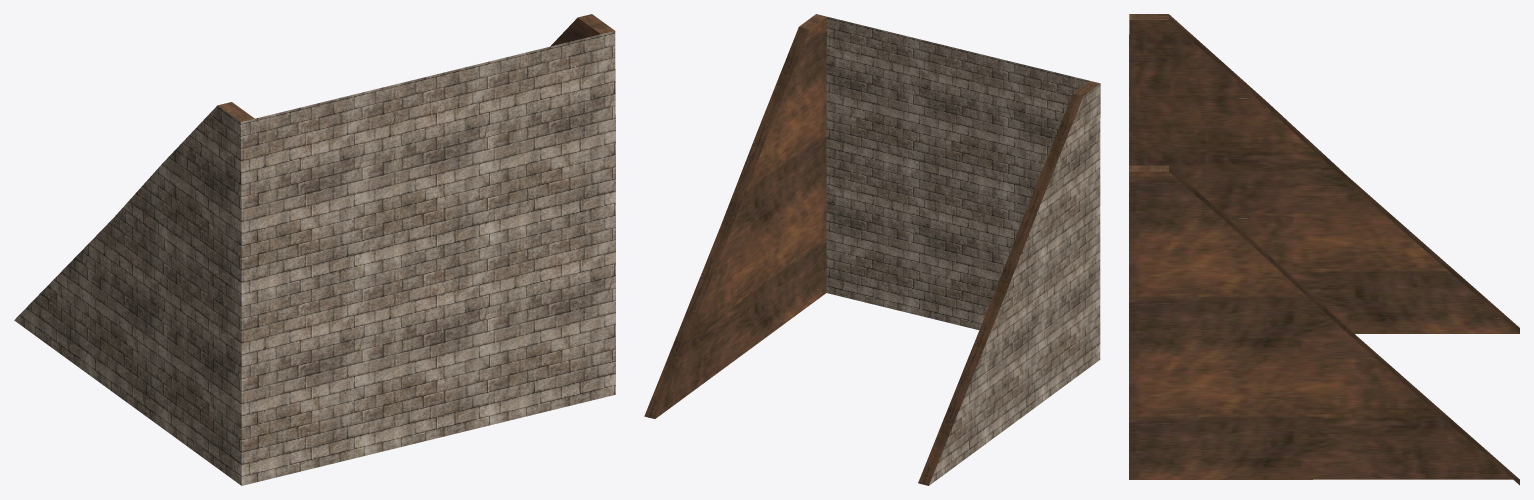
3 views of the same model, side by side, from view 1: azimuth 30°, elevation 25°; view 2: azimuth 150°, elevation 25°; view 3: azimuth 270°, elevation 25° (orthographic). The views are drawn at different scales.
Parts seen in each view (by area): view 1: Box284; view 2: Box284; view 3: Box284.
Boxes of the visible parts, x1,y1,x2,y2 form: Box284: [14, 14, 615, 485]; Box284: [644, 14, 1100, 485]; Box284: [1129, 14, 1519, 485].
Bounding box in the file's own units: 99.03 × 91.76 × 104.
